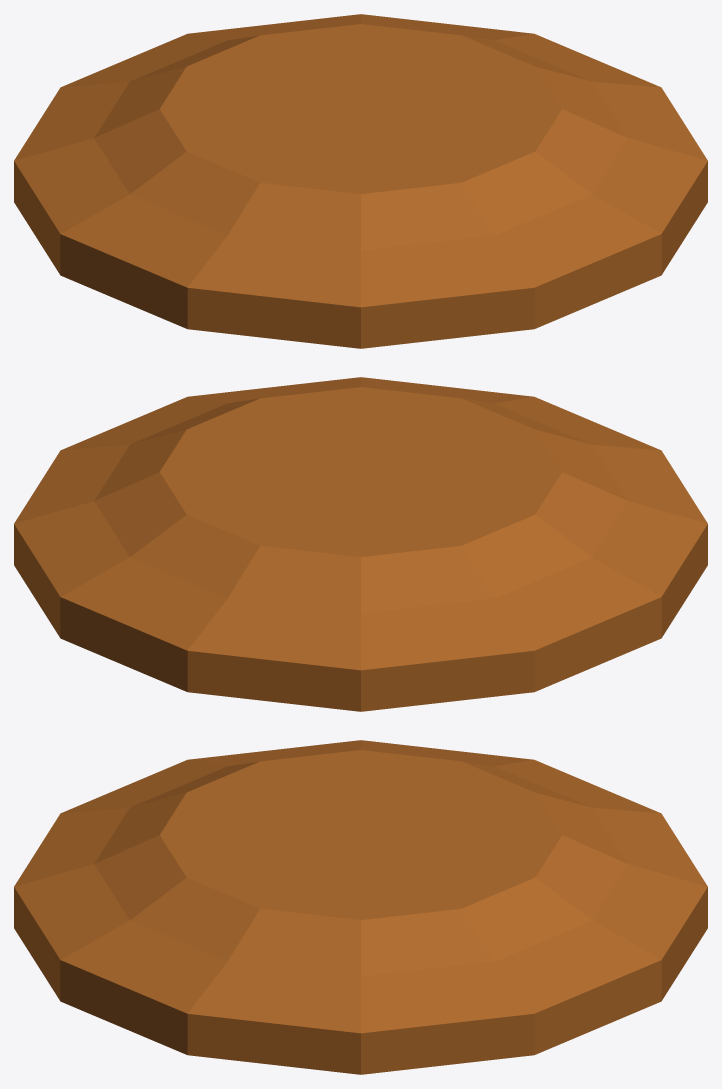
The model's file is Clay Shooting Target.fbx.
3 views of the same model, one above another, from view 1: azimuth 30°, elevation 25°; view 2: azimuth 150°, elevation 25°; view 3: azimuth 270°, elevation 25° (orthographic).
Visible parts, largest first — view 1: Cylinder; view 2: Cylinder; view 3: Cylinder.
Boxes of the visible parts, box(x1,y1,x2,y2) form: Cylinder: box(14, 14, 707, 348); Cylinder: box(14, 377, 707, 711); Cylinder: box(14, 740, 707, 1074).
Bounding box in the file's own units: 415 × 61.53 × 415.
